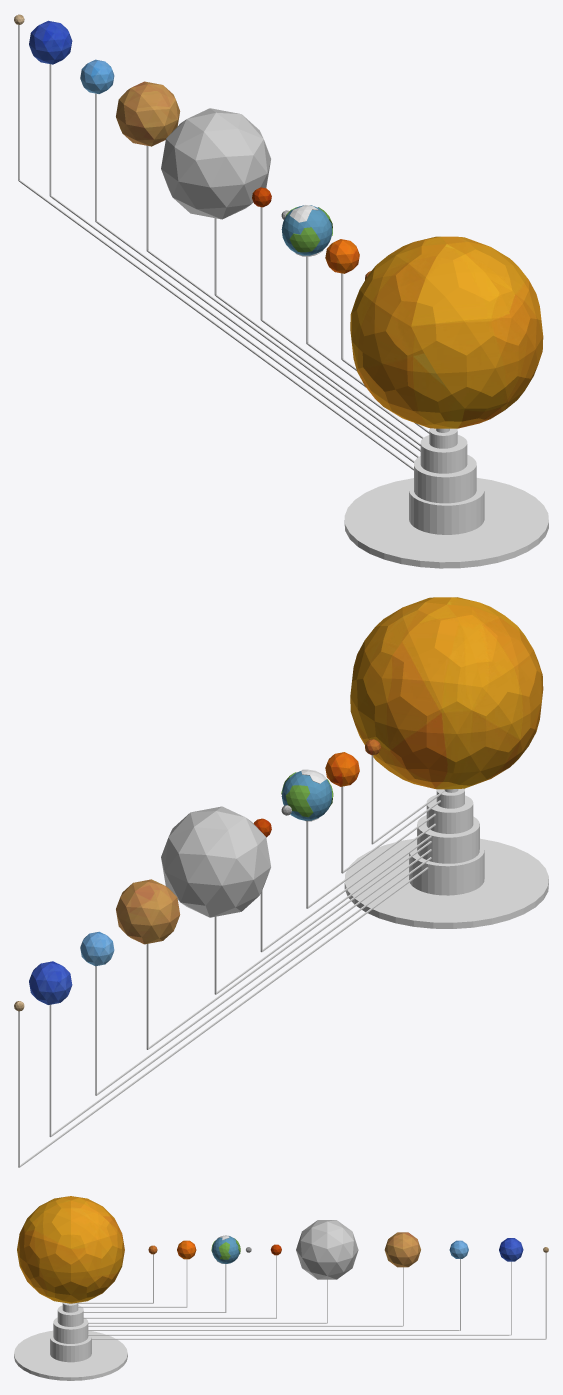
File: planet.fbx
3 views of the same model, one above another, from view 1: azimuth 30°, elevation 25°; view 2: azimuth 150°, elevation 25°; view 3: azimuth 270°, elevation 25° (orthographic). The views are drawn at different scales.
Parts seen in each view (by area): view 1: Sun, Stand, Jupiter, Cylinder.001, Saturn, Earth, Pluto Stand, Neptune Stand, Neptune, Uranus Stand, Saturn Stand, Venus (+3 smaller); view 2: Sun, Stand, Jupiter, Cylinder.001, Saturn, Earth, Pluto Stand, Neptune Stand, Neptune, Uranus Stand, Saturn Stand, Venus (+3 smaller); view 3: Sun, Stand, Jupiter, Cylinder.001, Pluto Stand, Saturn, Neptune Stand, Saturn Stand, Earth, Jupiter Stand, Neptune, Mars Stand (+5 smaller).
Part boxes in pixels (x1,y1,x2,y2): Sun: (350,236,543,428); Stand: (344,478,548,568); Jupiter: (161,108,270,219); Cylinder.001: (409,428,484,534); Saturn: (116,81,180,146); Earth: (281,205,332,256); Pluto Stand: (18,25,413,470); Neptune Stand: (49,64,414,462); Neptune: (29,20,72,64); Uranus Stand: (95,93,418,457); Saturn Stand: (146,145,420,451); Venus: (325,239,359,273); Sun: (350,597,543,789); Stand: (344,838,548,928); Jupiter: (161,806,270,917); Cylinder.001: (409,788,484,895); Saturn: (116,879,180,944); Earth: (281,769,333,821); Pluto Stand: (18,867,428,1167); Neptune Stand: (49,857,431,1137); Neptune: (29,961,72,1004); Uranus Stand: (95,849,431,1095); Saturn Stand: (146,841,431,1049); Venus: (325,752,359,786); Sun: (17,1196,124,1303); Stand: (14,1330,127,1380); Jupiter: (296,1220,358,1279); Cylinder.001: (50,1302,91,1362); Pluto Stand: (92,1252,546,1339); Saturn: (384,1232,420,1267); Neptune Stand: (88,1261,511,1335); Saturn Stand: (88,1267,403,1326); Earth: (211,1235,240,1263); Jupiter Stand: (88,1279,327,1323); Neptune: (499,1238,523,1261); Mars Stand: (83,1255,276,1318).
Size of the model in its own units: 2846 by 13373 by 4310.
